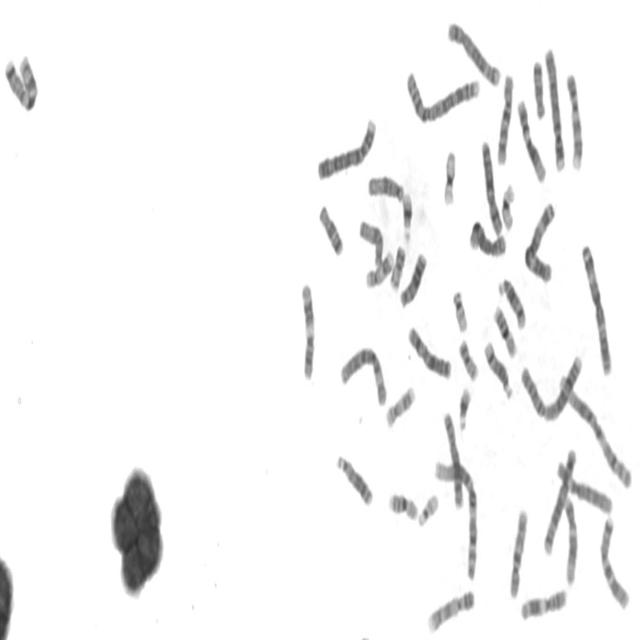A1: (555, 366, 634, 492), (432, 453, 479, 583)
A2: (519, 348, 585, 424), (403, 64, 482, 126)
A3: (579, 239, 613, 377), (522, 197, 557, 286)
B4: (315, 113, 377, 183), (542, 42, 566, 175)
B5: (445, 16, 502, 88), (542, 444, 578, 558)
C10: (508, 503, 530, 602), (494, 68, 514, 168)
C11: (518, 584, 569, 623), (299, 279, 316, 382)
C12: (515, 95, 547, 185), (562, 493, 579, 588)
C6: (554, 454, 614, 517), (338, 342, 389, 408)
C7: (598, 511, 632, 612), (2, 50, 40, 113)
C8: (441, 406, 465, 513), (468, 216, 508, 260)
C9: (425, 584, 477, 636), (564, 68, 584, 173)
D13: (334, 451, 374, 510), (398, 248, 428, 310)
D14: (482, 336, 514, 402), (496, 274, 526, 332)
D15: (357, 216, 385, 268), (366, 170, 405, 205)
E16: (491, 300, 518, 360), (386, 487, 419, 523)
E17: (383, 381, 417, 431), (363, 246, 395, 291)
E18: (316, 200, 344, 259), (531, 55, 546, 121)
F19: (442, 146, 458, 208), (499, 180, 516, 232)
F20: (456, 335, 480, 383), (388, 242, 407, 294)
G21: (400, 188, 414, 244), (457, 382, 472, 433)
G22: (416, 488, 440, 530), (450, 286, 470, 334)
X: (405, 322, 453, 382), (478, 136, 504, 238)
